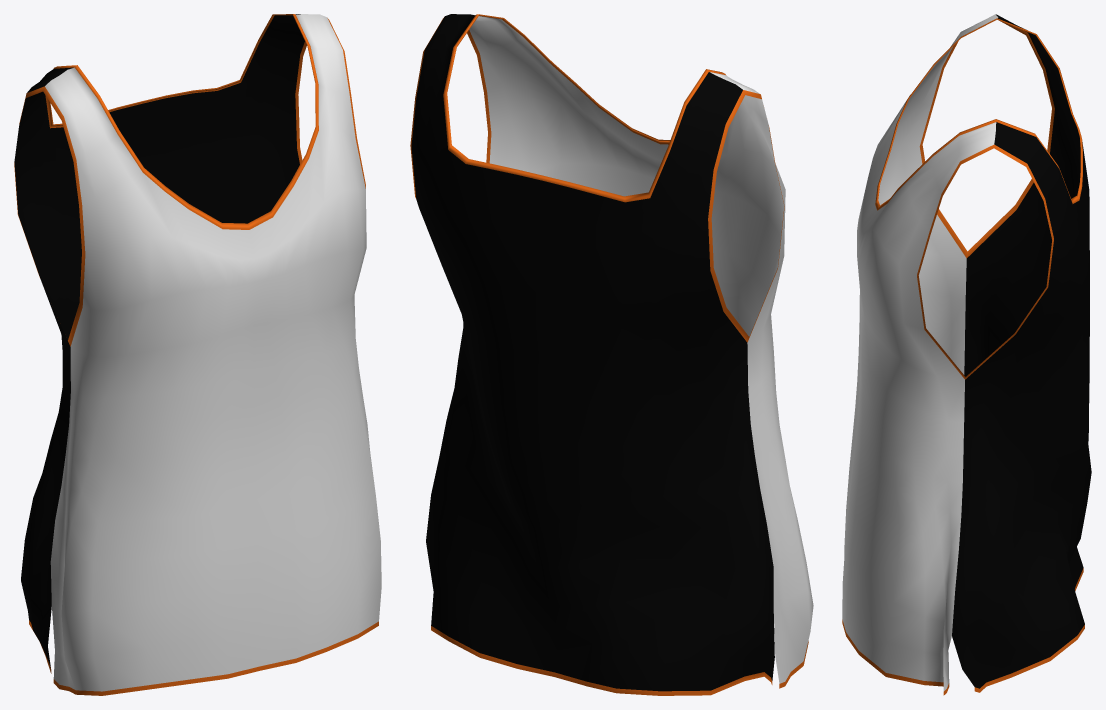
File: Black & orange.fbx
3 views of the same model, side by side, from view 1: azimuth 30°, elevation 25°; view 2: azimuth 150°, elevation 25°; view 3: azimuth 270°, elevation 25° (orthographic). The views are drawn at different scales.
Parts seen in each view (by area): view 1: Front; view 2: Front; view 3: Front.
Part boxes in pixels (<box>): Front: <box>14,14,381,695</box>; Front: <box>410,14,813,695</box>; Front: <box>842,14,1091,695</box>.
Bounding box in the file's own units: 29.15 × 49.96 × 20.15.
